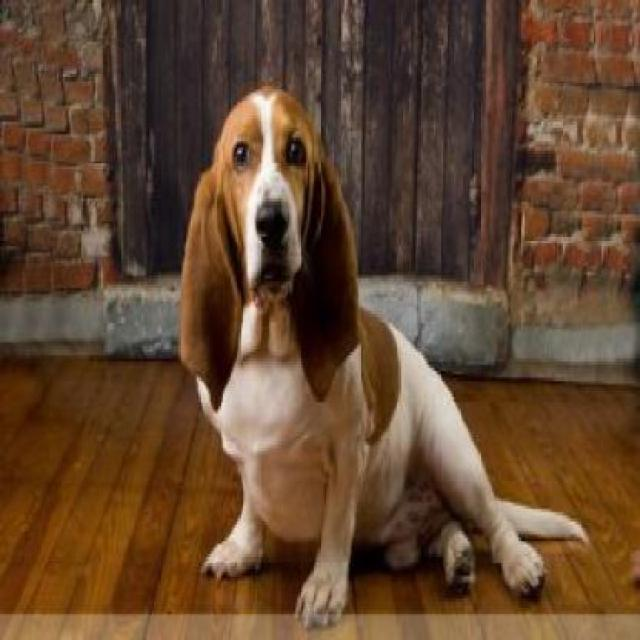Dog: (175, 82, 592, 616)
